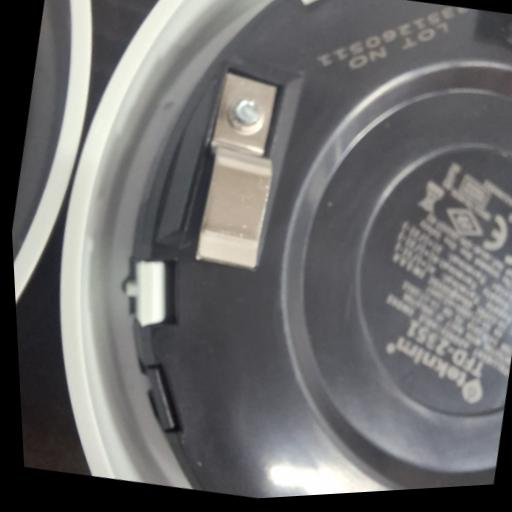yaysiz: (177, 59, 299, 277)
